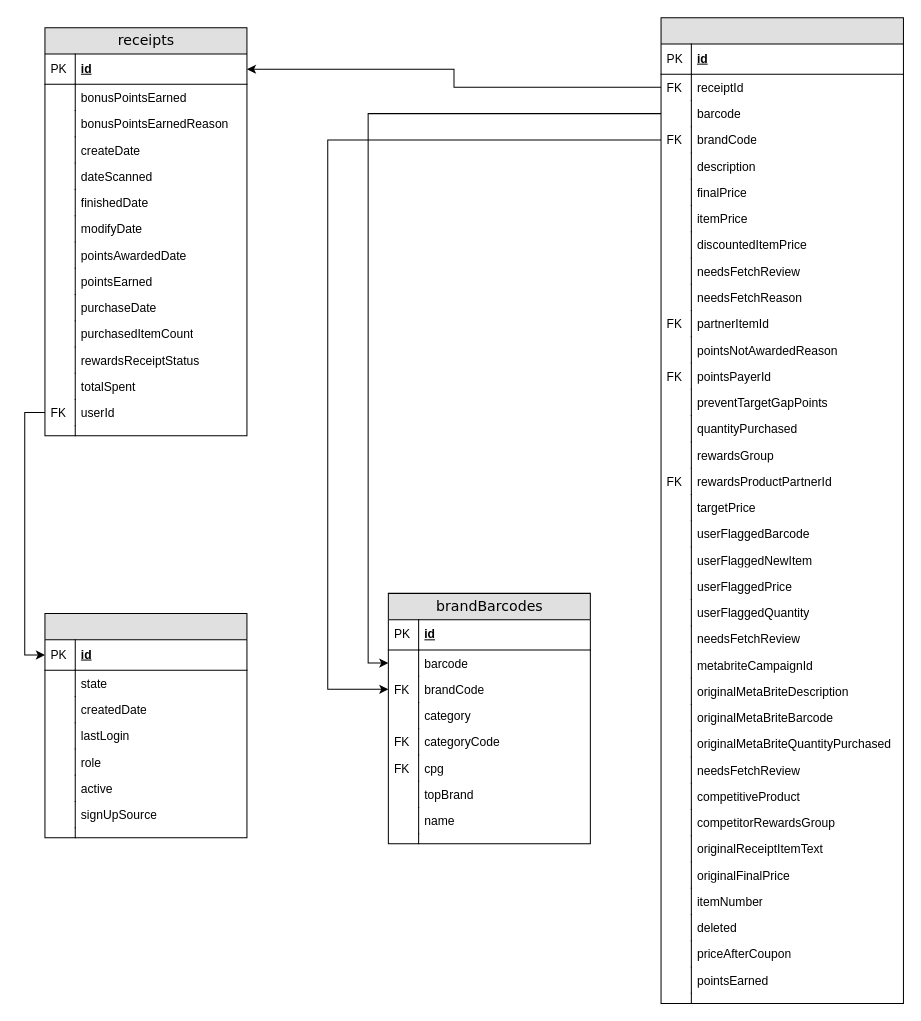
Some shapes in this 921 by 1021 pixel diagram are drawn without their labels. Each missing label, with the box of its shape:
rewardsReceiptItems: (660, 17, 903, 1003)
users: (44, 613, 247, 838)
